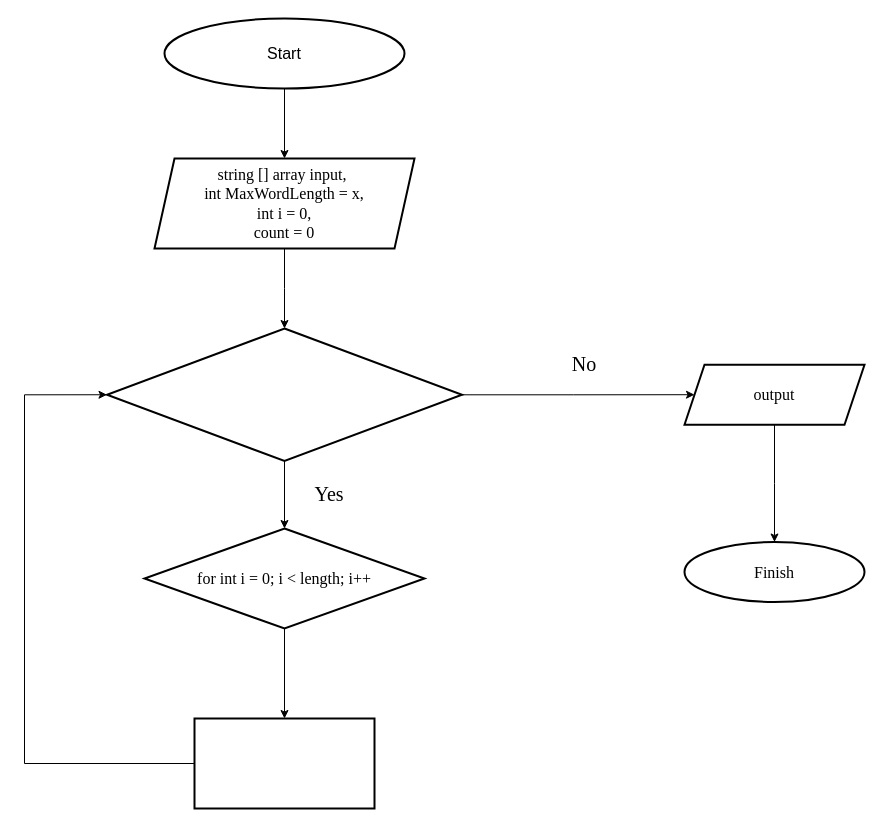
Some shapes in this 883 by 826 pixel diagram are drawn without their labels. Here are the shapes that lost their labels. From the top down, the box of each, then its label:
(106, 327, 462, 462): if (array[i].Length <= MaxWordLength)
(193, 717, 375, 809): count++
